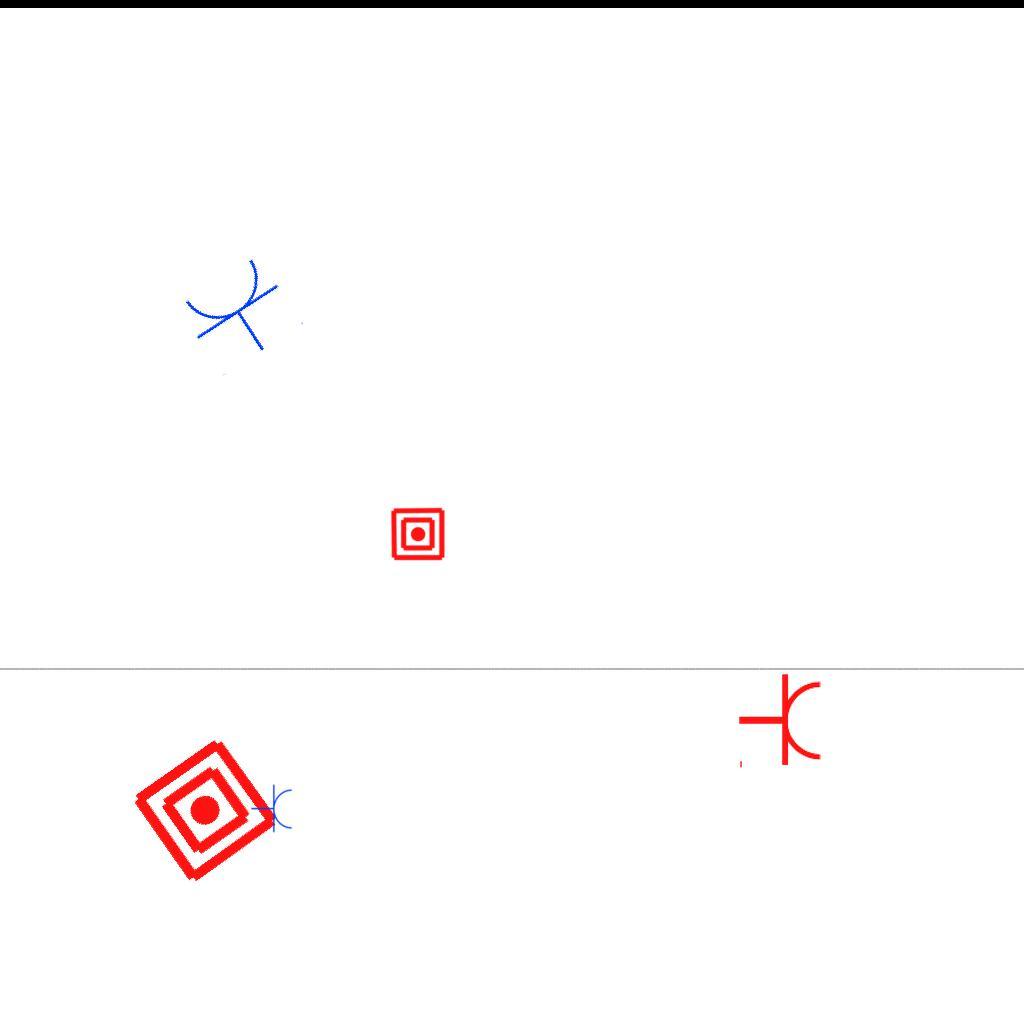NAM-Nichtautomatischer_Melder: (126, 731, 285, 890), (390, 506, 446, 562)
Schukosteckdose_einfach: (174, 249, 306, 378), (737, 672, 824, 772), (251, 784, 294, 834)
